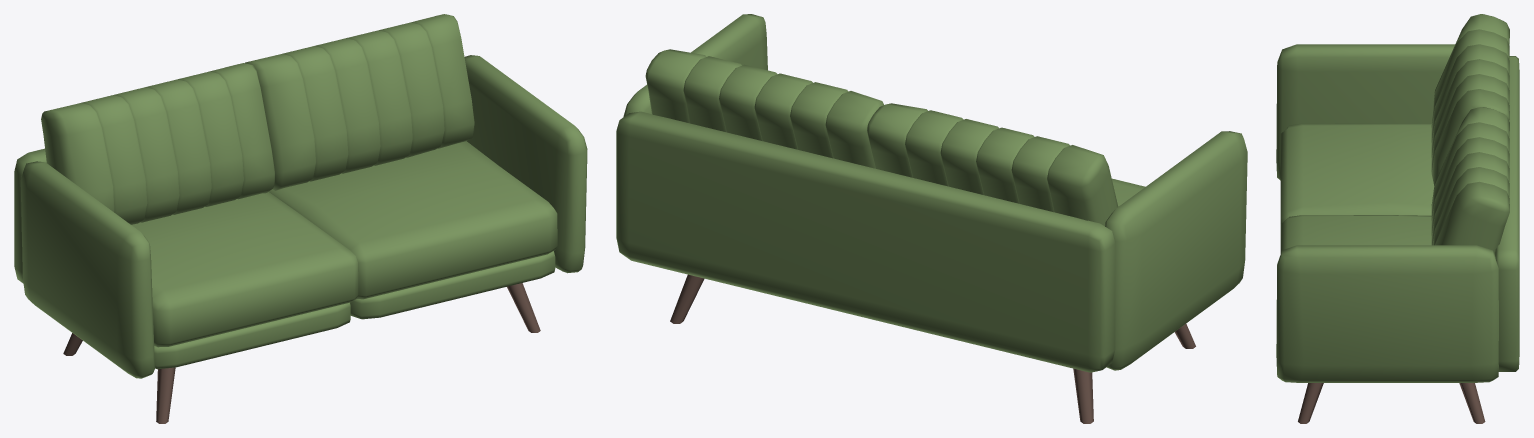
File: Sofa_01_Double.fbx
3 renders of one model, left to right at view 1: azimuth 30°, elevation 25°; view 2: azimuth 150°, elevation 25°; view 3: azimuth 270°, elevation 25°, orthographic. The views are drawn at different scales.
Parts seen in each view (by area): view 1: Sofa_01_Double; view 2: Sofa_01_Double; view 3: Sofa_01_Double.
Part boxes in pixels (x1=…): Sofa_01_Double: x1=14, y1=14, x2=587, y2=423; Sofa_01_Double: x1=616, y1=14, x2=1247, y2=423; Sofa_01_Double: x1=1276, y1=14, x2=1519, y2=423.
Size of the model in its own units: 1.88 by 0.9456 by 0.9018.
